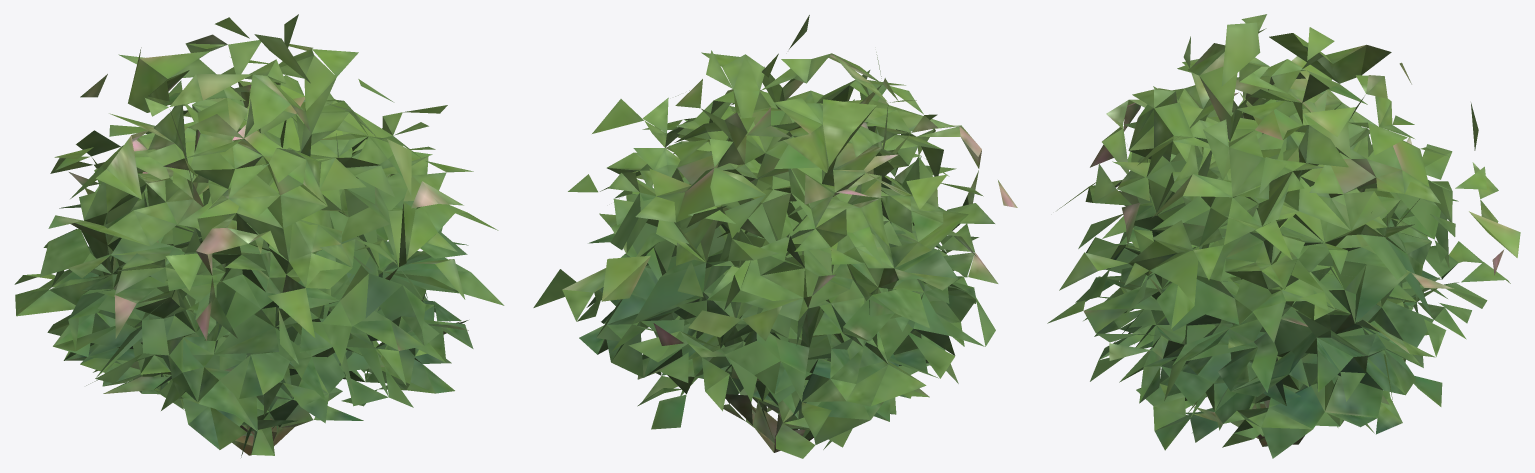
Rendered from forest_flowerbush.glb.
3 renders of one model, left to right at view 1: azimuth 30°, elevation 25°; view 2: azimuth 150°, elevation 25°; view 3: azimuth 270°, elevation 25°, orthographic. The views are drawn at different scales.
Parts seen in each view (by area): view 1: output_unwrapped; view 2: output_unwrapped; view 3: output_unwrapped.
Boxes of the visible parts, <box> form: output_unwrapped: <box>14,14,504,457</box>; output_unwrapped: <box>533,15,1017,458</box>; output_unwrapped: <box>1047,14,1520,458</box>.
Bounding box in the file's own units: 1.63 × 1.65 × 1.69.
1 material, 1 textured.
